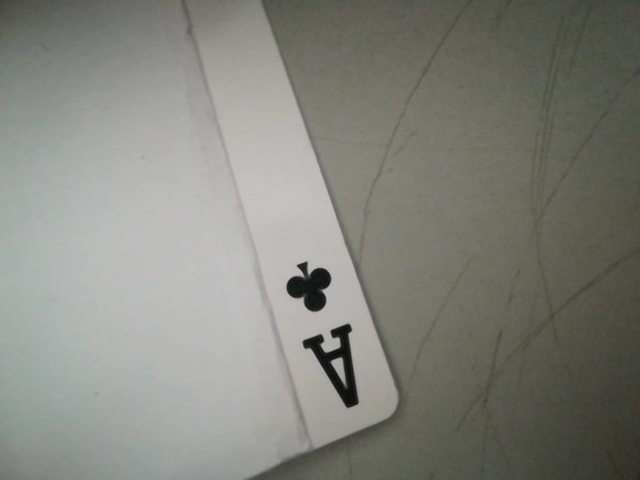mh a: (277, 250, 377, 418)
